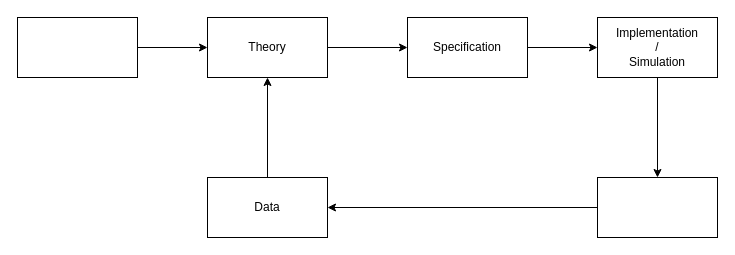
The diagram is 735 pixels wide and 255 high, and some of its shapes have lost their labels. The centre of each missing label's shape, as x and y in pixels:
Framework: [77,47]
Hypothesis: [657,207]
